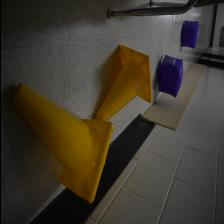cone: (11, 82, 113, 204), (94, 45, 150, 121)
cube: (158, 54, 182, 98), (180, 20, 198, 49)
